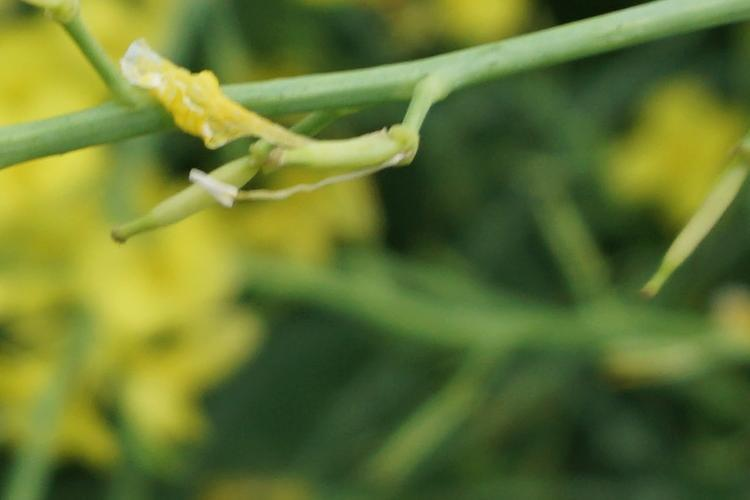pod: (119, 161, 260, 242), (263, 117, 423, 184)
